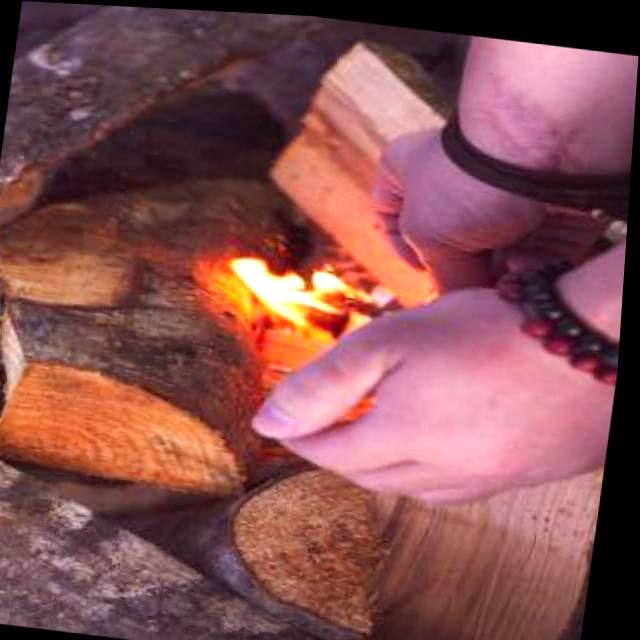fire: (191, 238, 405, 330)
